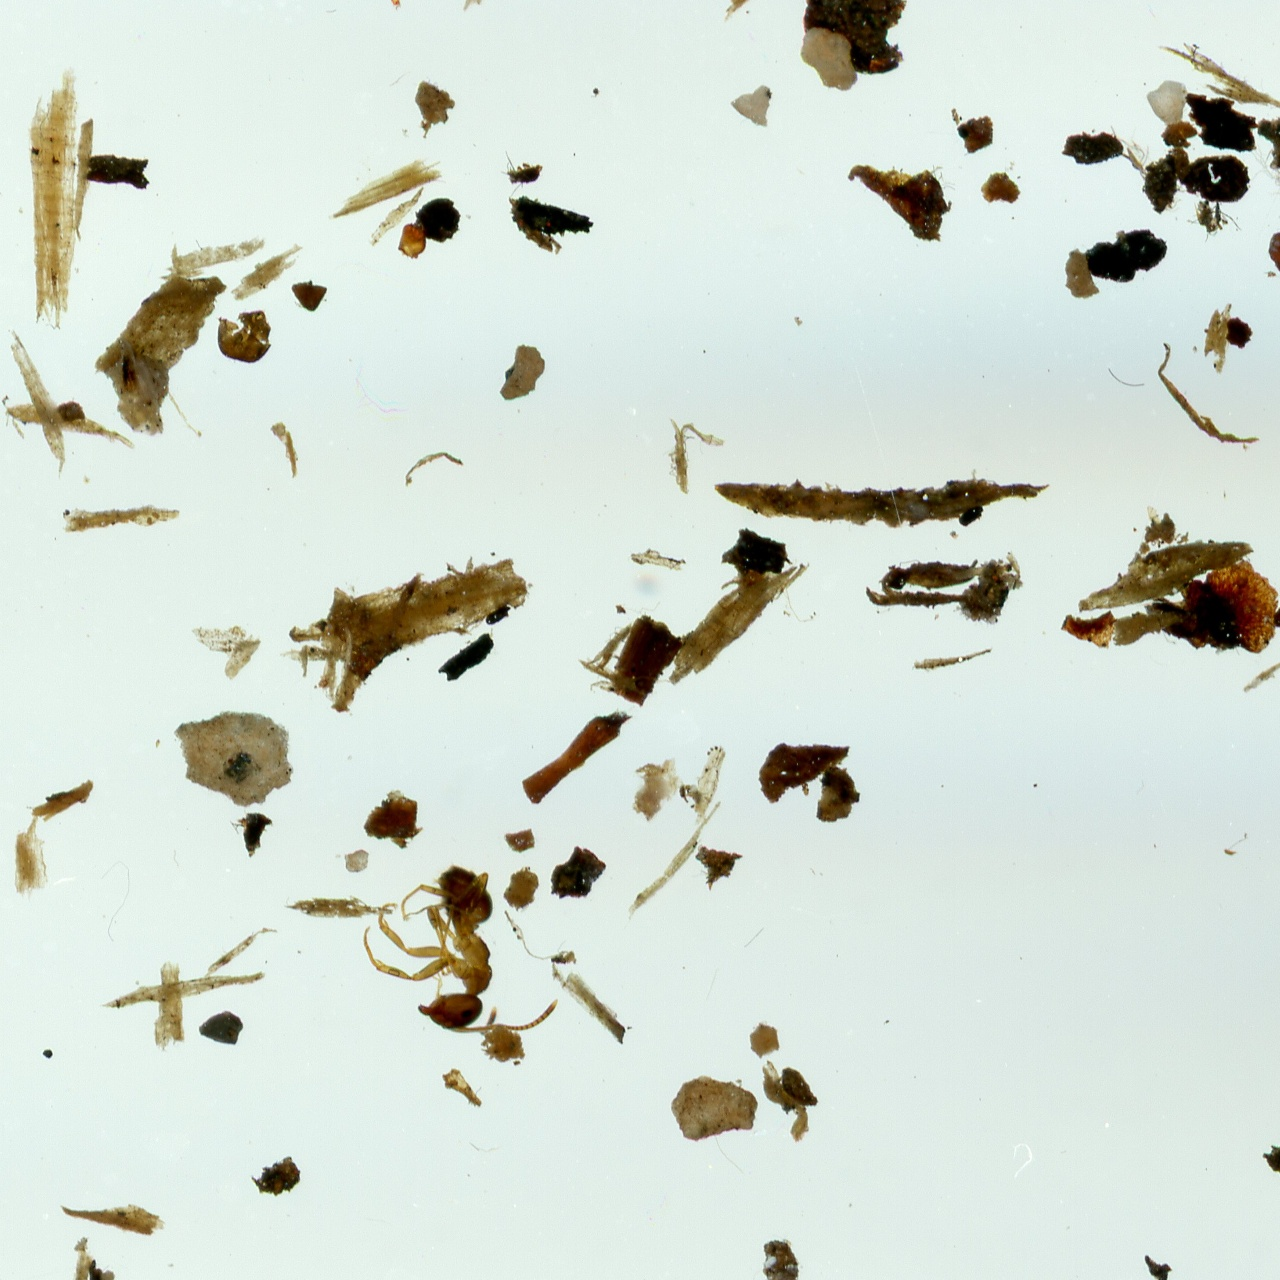arthropod: (360, 859, 561, 1037)
